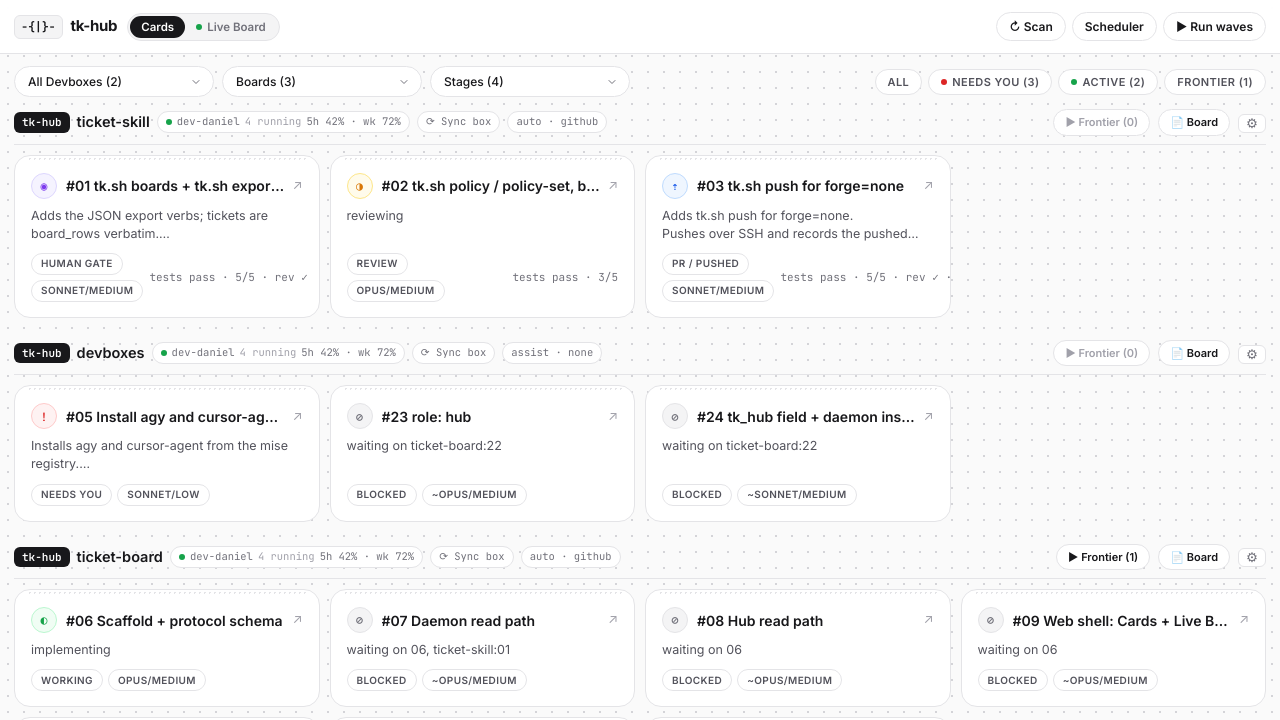
it: App › the tab title carries the Needs You count under the Devbox / Board filters and follows WS events
Select "dev-acme" in the dropdown named "Devbox": (114, 82) [14,66,214,97]
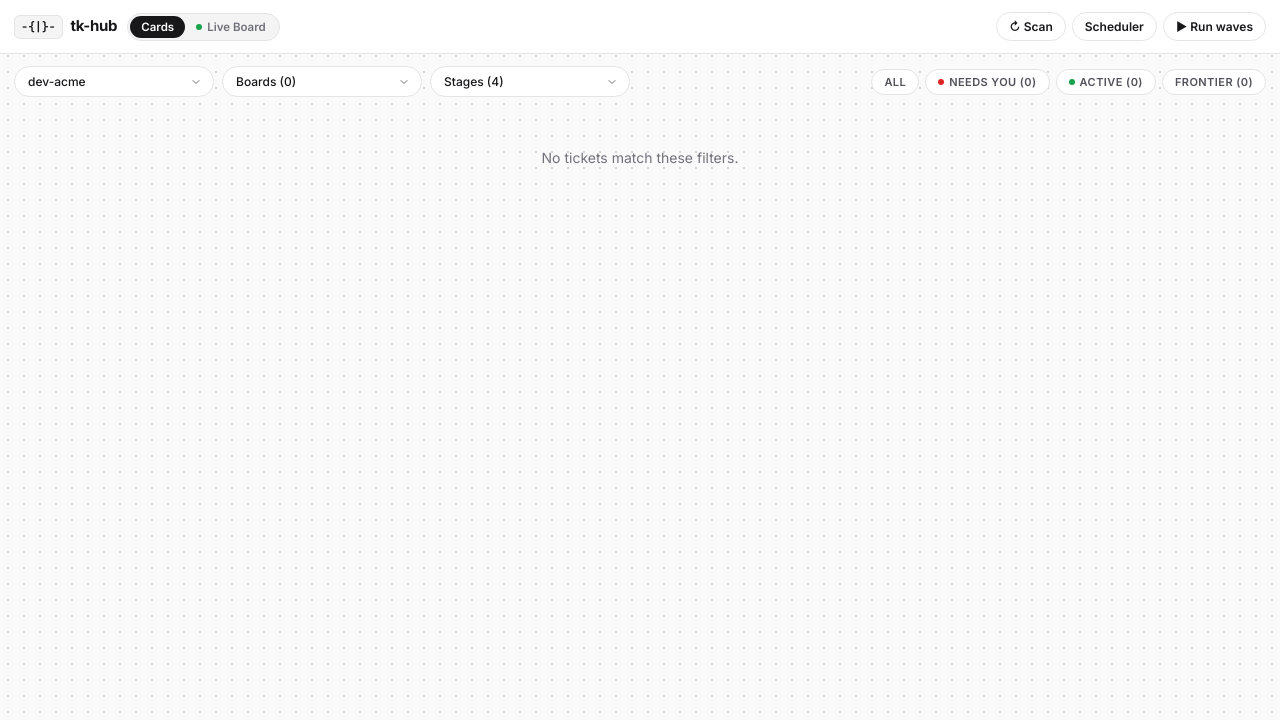
Select "All Devboxes (2)" in the dropdown named "Devbox": (114, 82) [14,66,214,97]
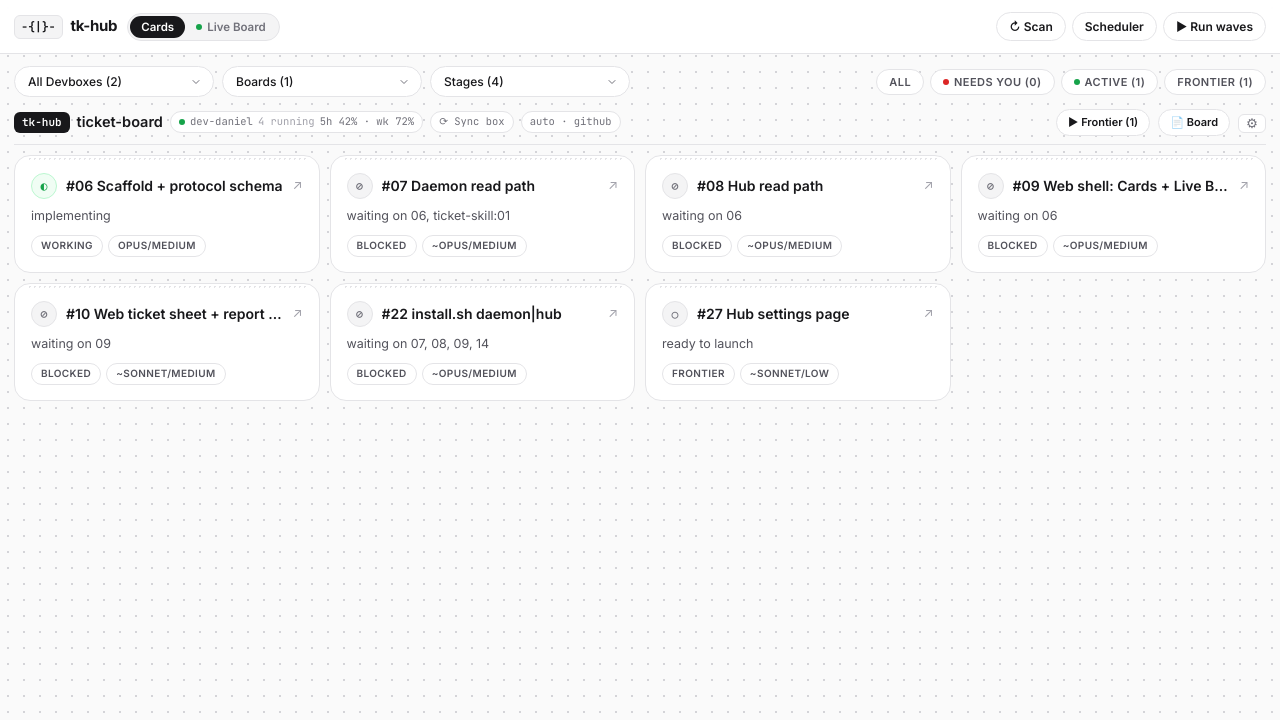
Expected: the text "tk-hub" is shown, [14,112,70,132]
